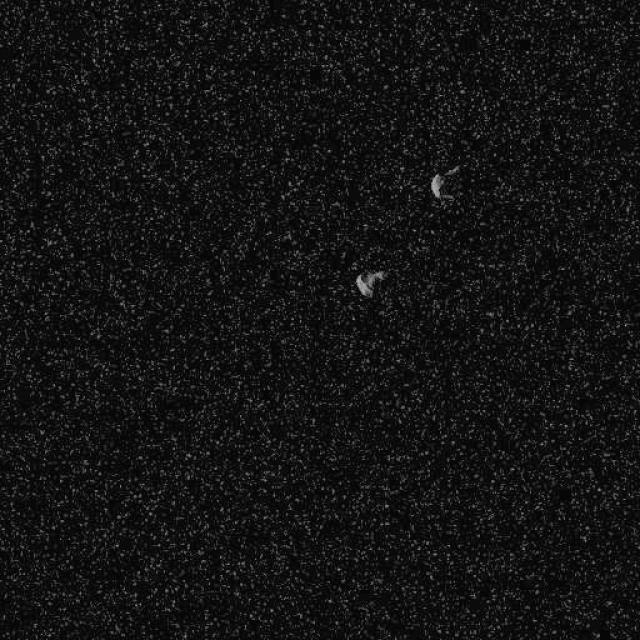D2: (429, 162, 461, 202), (354, 268, 386, 298)
